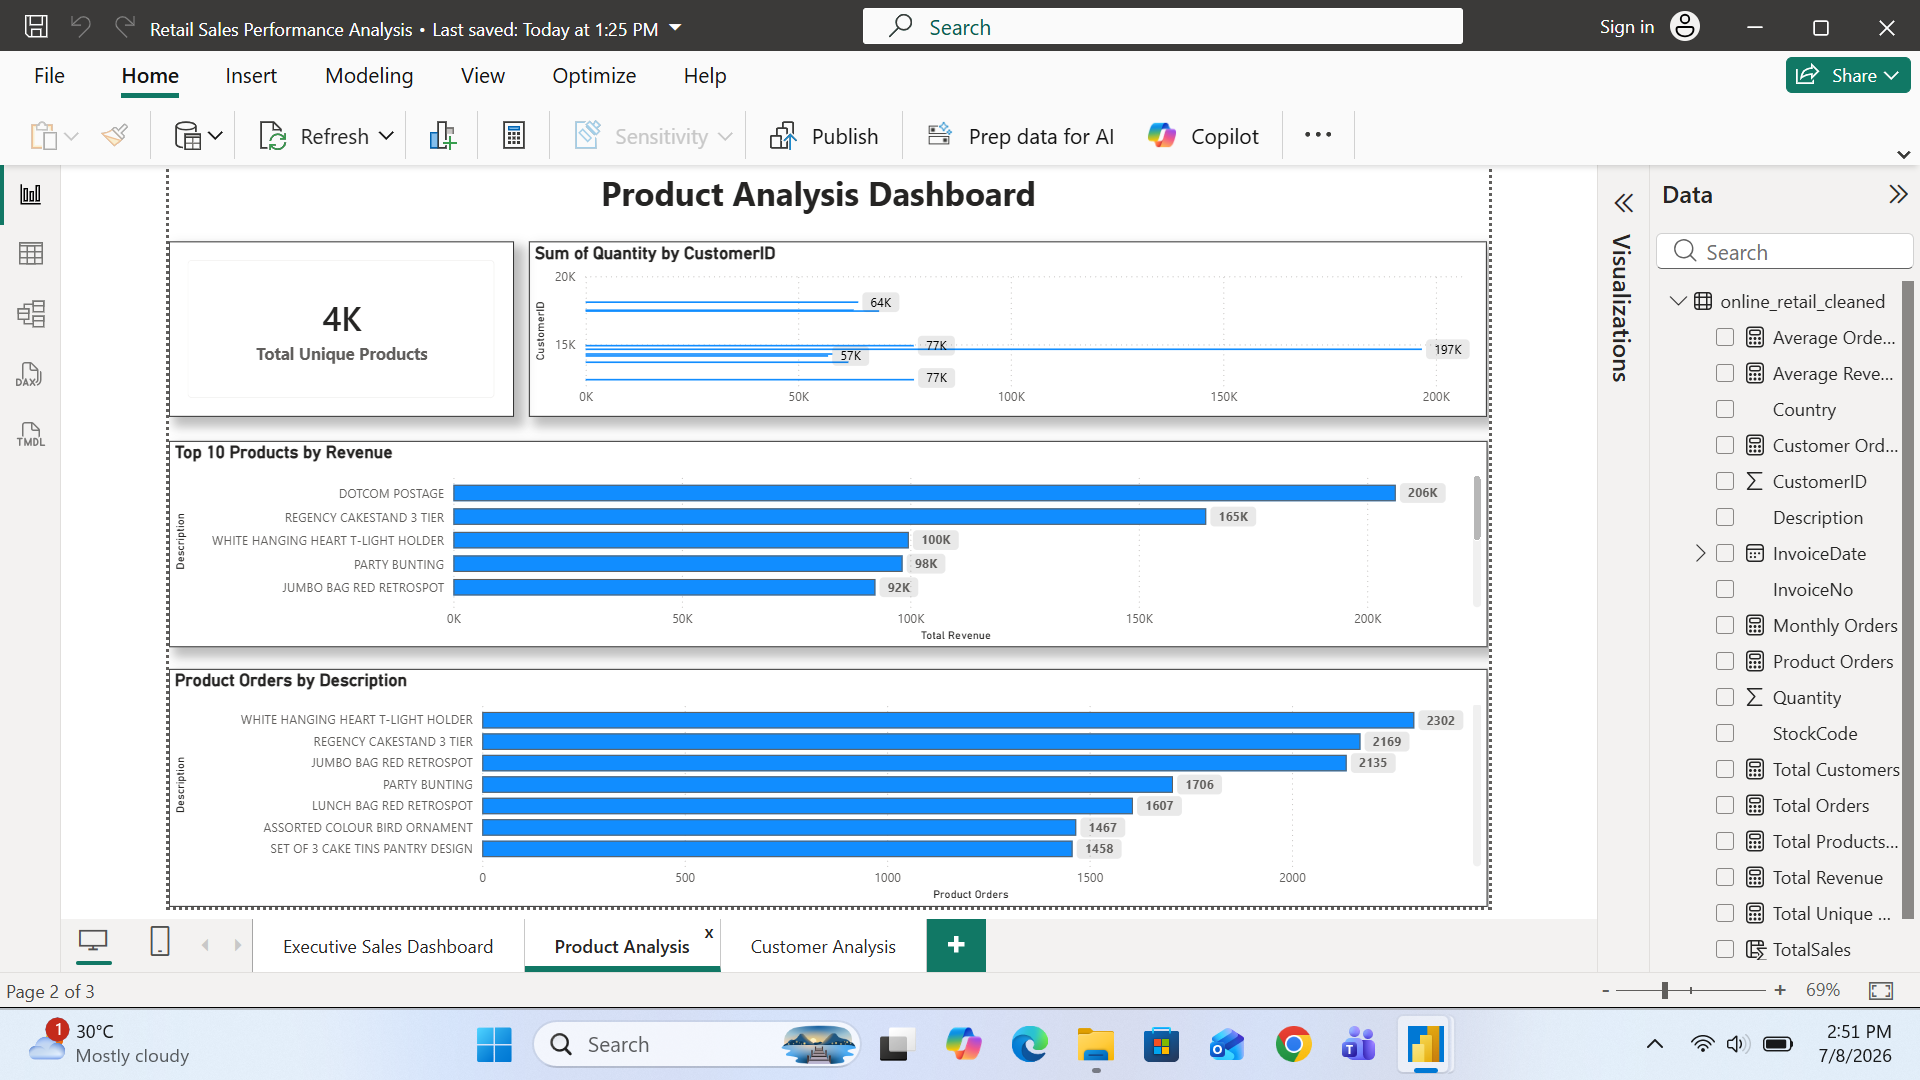

Layout of this report page (visuals, bound fields, positions):
{"tool":"powerbi","page":{"name":"Product Analysis","canvas":[1280,720],"ordinal":1},"visuals":[{"type":"clusteredBarChart","title":"Top 10 Products by Revenue","fields":{"Category":["online_retail_cleaned.Description"],"Y":["online_retail_cleaned.Total Revenue"]},"box":[0,268.3,1279.4,200.3],"z":0},{"type":"textbox","box":[0,0,1260.5,68],"z":1000},{"type":"clusteredBarChart","fields":{"Category":["online_retail_cleaned.CustomerID"],"Y":["Sum(online_retail_cleaned.Quantity)"]},"box":[349.8,74.5,929.4,170],"z":2000},{"type":"cardVisual","fields":{"Data":["online_retail_cleaned.Total Unique Products"]},"box":[0,73.7,334.5,170.1],"z":3000},{"type":"clusteredBarChart","fields":{"Category":["online_retail_cleaned.Description"],"Y":["online_retail_cleaned.Product Orders"]},"box":[0,489.5,1279.4,230.6],"z":4000}]}

Visuals, with their boxes on the page's 1280x720 design canvas (x1, y1, x2, y2). These are canvas units, not pixel positions in the 1920x1080 screenshot, which may show the page scaled, cropped or inside an application window:
"Top 10 Products by Revenue" clusteredBarChart: [0, 268, 1279, 469]
textbox: [0, 0, 1260, 68]
clusteredBarChart - online_retail_cleaned.CustomerID x Sum(online_retail_cleaned.Quantity): [350, 74, 1279, 244]
cardVisual - online_retail_cleaned.Total Unique Products: [0, 74, 334, 244]
clusteredBarChart - online_retail_cleaned.Description x online_retail_cleaned.Product Orders: [0, 490, 1279, 720]
